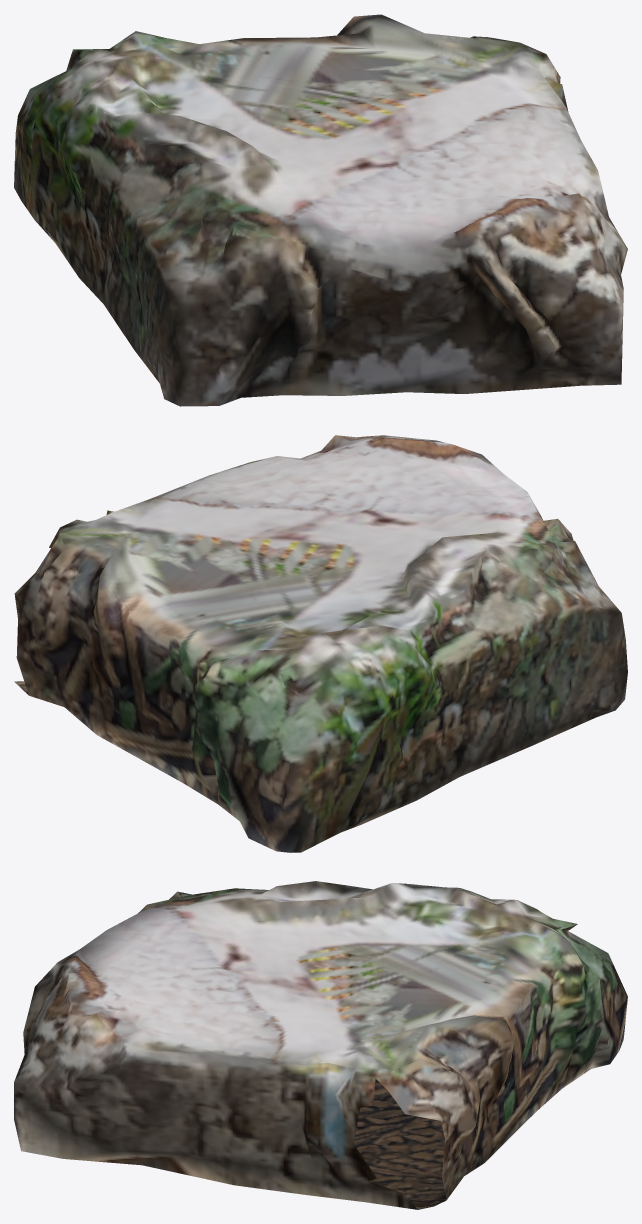
The model's file is SnowForest_Floor.fbx.
3 renders of one model, top to bottom at view 1: azimuth 30°, elevation 25°; view 2: azimuth 150°, elevation 25°; view 3: azimuth 270°, elevation 25°, orthographic. The views are drawn at different scales.
Visible parts, largest first — view 1: SnowForest_Floor_Mesh; view 2: SnowForest_Floor_Mesh; view 3: SnowForest_Floor_Mesh.
Part boxes in pixels (left/top/right/bottom): SnowForest_Floor_Mesh: left=14, top=14, right=627, bottom=406; SnowForest_Floor_Mesh: left=14, top=435, right=627, bottom=852; SnowForest_Floor_Mesh: left=14, top=881, right=627, bottom=1209.
Size of the model in its own units: 6 by 2.18 by 7.38.
1 material, 1 textured.
